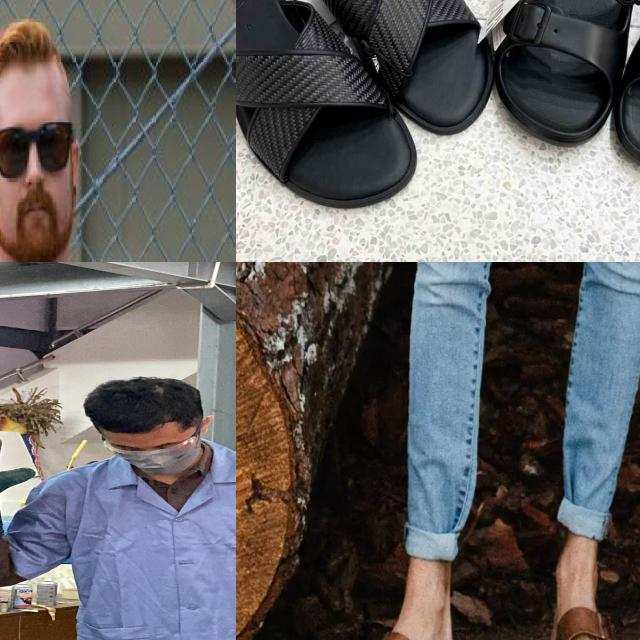Sandals: (236, 0, 526, 222), (504, 0, 640, 179), (550, 603, 640, 640)
face_mask: (102, 429, 204, 478)
face_nomask: (0, 115, 77, 241)
glasses: (0, 106, 76, 177), (96, 436, 201, 460)
hand_glove: (0, 429, 40, 518)
head_nohelmet: (0, 13, 79, 106), (84, 385, 212, 439)
person: (0, 374, 236, 640), (0, 0, 194, 262)
